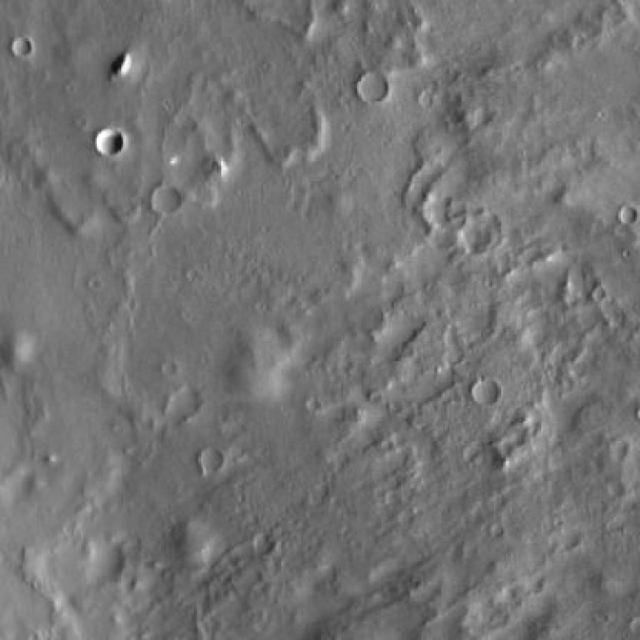crater: (358, 70, 390, 102), (96, 130, 125, 158), (152, 188, 179, 215), (198, 449, 224, 474), (472, 380, 496, 405), (248, 532, 272, 553), (12, 36, 30, 58), (618, 207, 636, 224), (161, 360, 176, 375), (638, 389, 640, 406)
